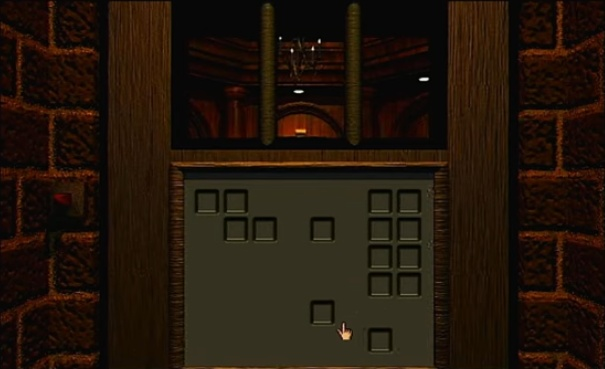Pointer: (334, 319, 356, 342)
